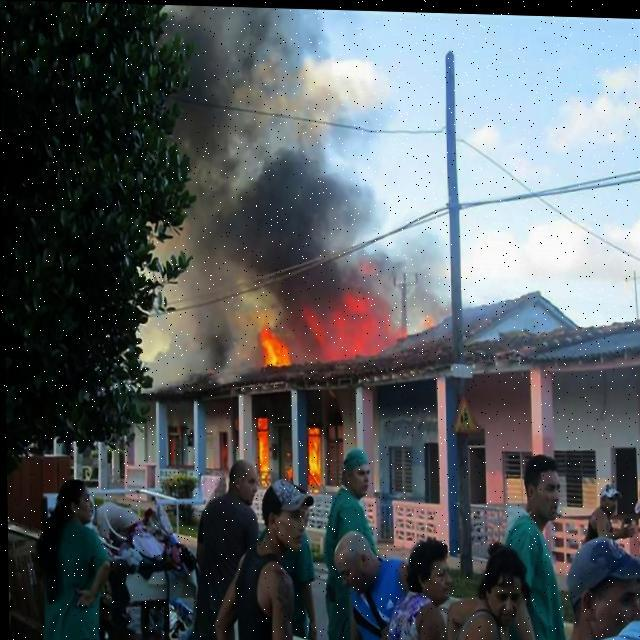Fire: (254, 320, 292, 371), (252, 414, 270, 484), (302, 424, 320, 492)
